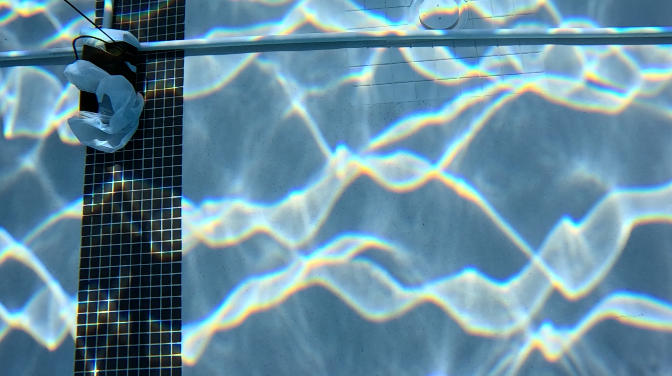sandbag: (62, 27, 138, 150)
